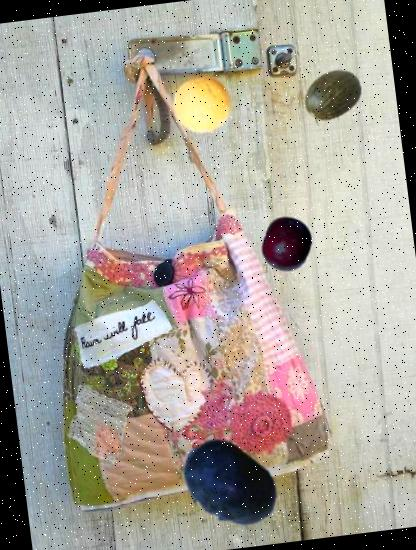Blueberry: (172, 428, 286, 542)
Cantaloupe: (169, 73, 236, 140)
Melon: (300, 63, 366, 130)
Plum: (256, 213, 318, 275)
